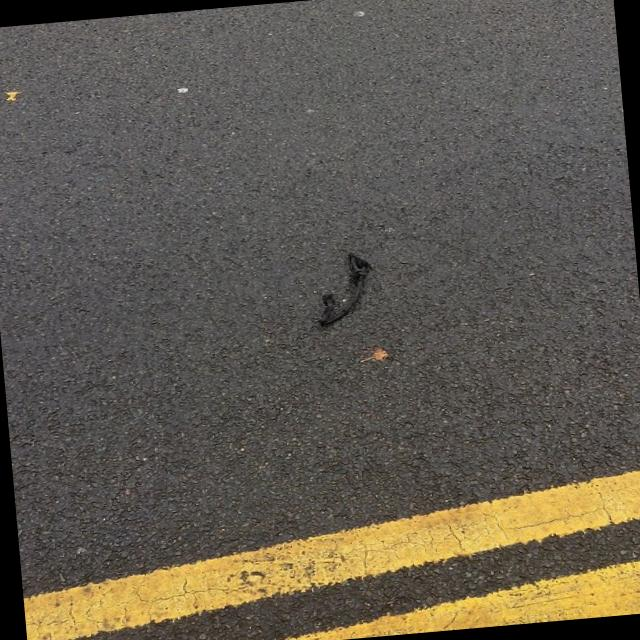Trash: (312, 251, 378, 327)
